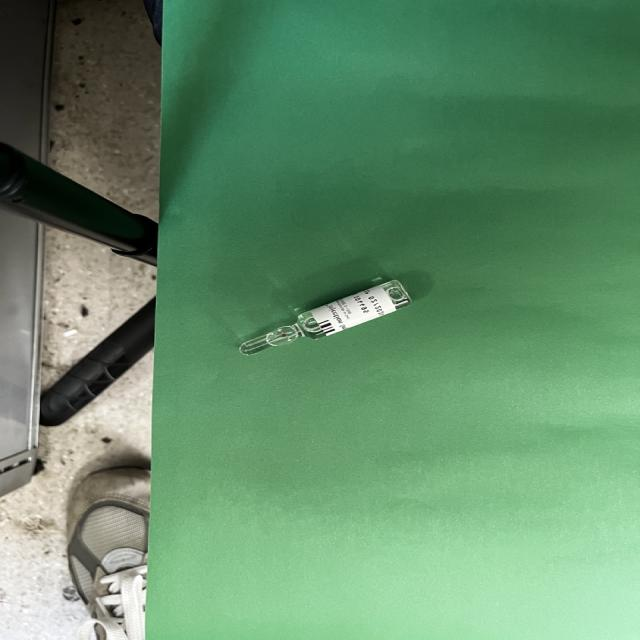Ampoules: (239, 280, 411, 355)
